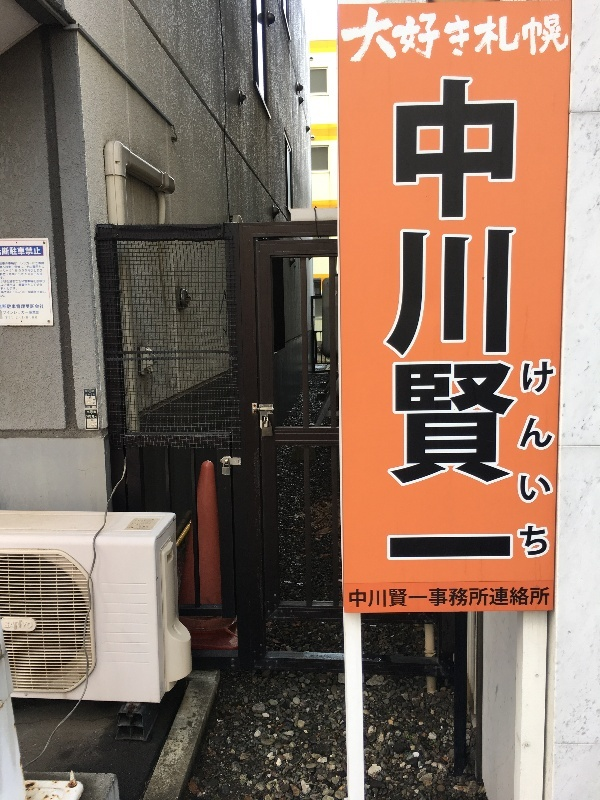text: (401, 72, 416, 559), (417, 72, 432, 559), (433, 72, 448, 559), (449, 72, 464, 559), (465, 72, 480, 559), (481, 72, 496, 559), (497, 72, 512, 559), (387, 72, 400, 559), (529, 362, 544, 557), (513, 72, 518, 559), (545, 362, 553, 557), (522, 362, 528, 557), (353, 7, 368, 67), (369, 7, 384, 67), (385, 7, 400, 67), (401, 7, 416, 67), (417, 7, 432, 67), (433, 7, 448, 67), (449, 7, 464, 67), (465, 7, 480, 67), (481, 7, 496, 67), (497, 7, 512, 67), (513, 7, 528, 67), (529, 7, 544, 67), (545, 7, 560, 67), (341, 7, 352, 67), (561, 7, 569, 67), (353, 587, 368, 609), (369, 587, 384, 609), (385, 587, 400, 609), (401, 587, 416, 609), (417, 587, 432, 609), (433, 587, 448, 609), (449, 587, 464, 609), (465, 587, 480, 609), (481, 587, 496, 609), (497, 587, 512, 609), (513, 587, 528, 609), (529, 587, 544, 609), (17, 247, 32, 255), (2, 247, 16, 255), (545, 587, 550, 609), (1, 263, 16, 269), (33, 247, 41, 255), (1, 269, 16, 273), (17, 269, 32, 273), (17, 305, 32, 309), (17, 311, 32, 315), (1, 305, 16, 309), (3, 305, 16, 309), (3, 311, 16, 315), (1, 273, 16, 276), (17, 273, 32, 276), (1, 277, 16, 280), (1, 280, 16, 283), (17, 280, 32, 283), (1, 284, 16, 287), (1, 291, 16, 294), (17, 291, 32, 294), (33, 305, 44, 309), (350, 587, 352, 609), (2, 295, 16, 298), (33, 269, 43, 273), (3, 266, 16, 269), (19, 284, 32, 287), (33, 291, 46, 294), (33, 266, 45, 269), (33, 280, 45, 283), (85, 390, 96, 393), (21, 262, 32, 265), (33, 262, 44, 265), (33, 273, 43, 276), (1, 288, 16, 290), (17, 317, 32, 319), (33, 311, 40, 315), (87, 411, 96, 414), (87, 415, 96, 418), (33, 284, 42, 287), (3, 263, 16, 265), (17, 266, 25, 269), (8, 287, 16, 290), (86, 394, 96, 396), (6, 317, 16, 319), (27, 266, 32, 269), (90, 397, 96, 399), (91, 419, 96, 421), (93, 390, 96, 393), (33, 317, 37, 319), (93, 399, 96, 401), (94, 411, 96, 413), (17, 263, 19, 265), (95, 421, 96, 424), (15, 266, 16, 269), (94, 403, 96, 404), (95, 425, 96, 427)
